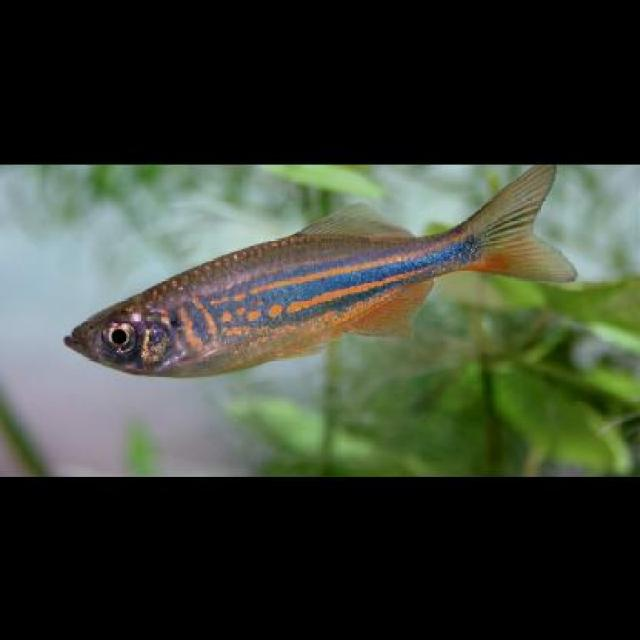ZebraFish: (61, 162, 576, 376)
